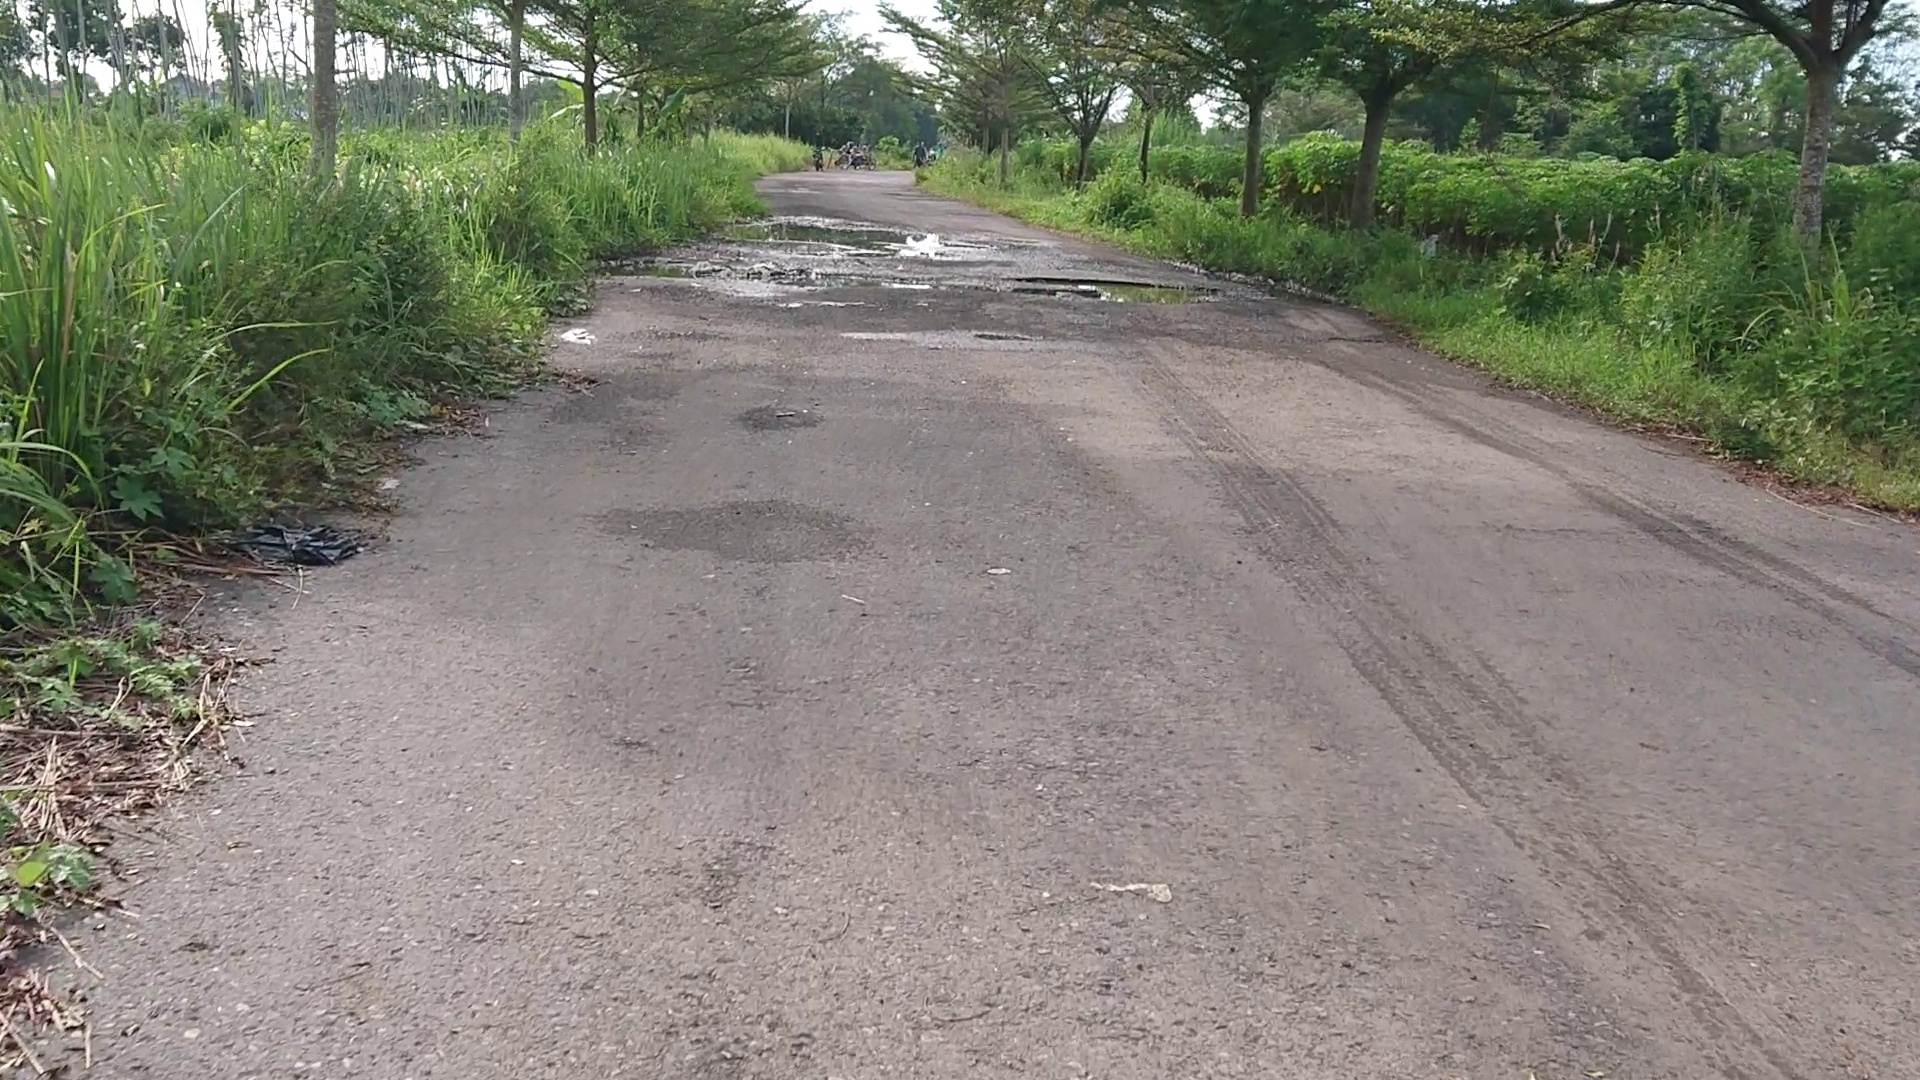Berlubang: (723, 212, 953, 258), (1009, 273, 1215, 306)
